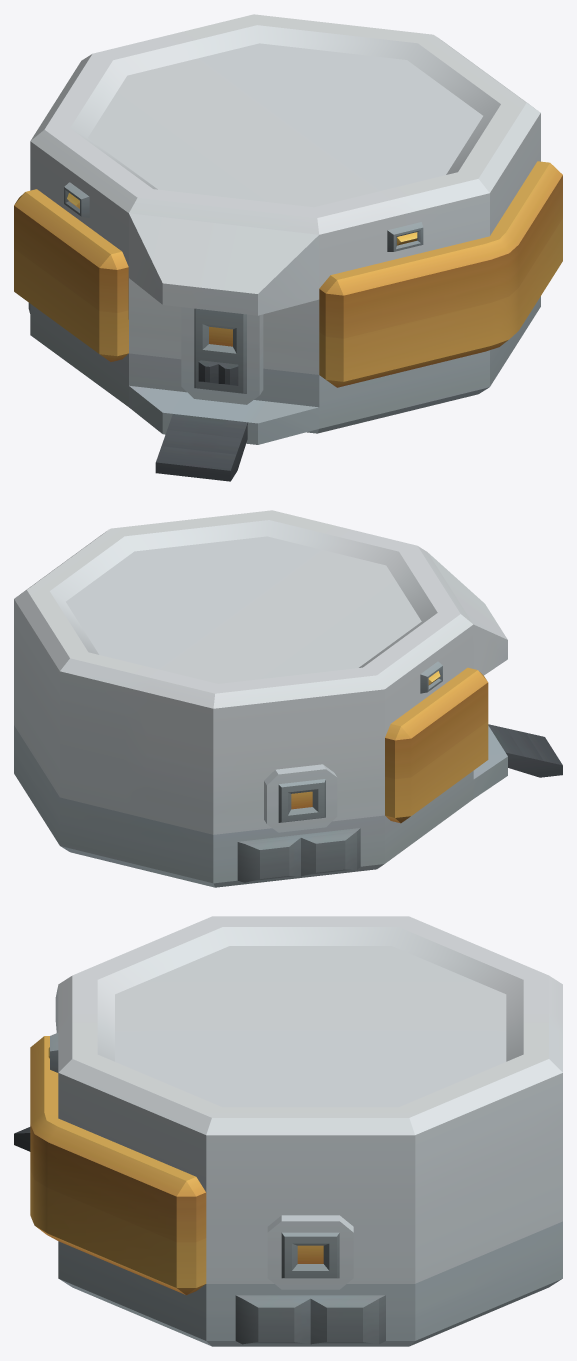
File: kay-modulo-base.gltf
3 renders of one model, top to bottom at view 1: azimuth 30°, elevation 25°; view 2: azimuth 150°, elevation 25°; view 3: azimuth 270°, elevation 25°, orthographic. The views are drawn at different scales.
Parts seen in each view (by area): view 1: basemodule_A; view 2: basemodule_A; view 3: basemodule_A.
Boxes of the visible parts, left/top/right/bottom form: basemodule_A: left=14, top=14, right=562, bottom=481; basemodule_A: left=14, top=510, right=562, bottom=887; basemodule_A: left=14, top=916, right=562, bottom=1346.
Bounding box in the file's own units: 5.85 × 2.6 × 5.66.
Materials: 1 (1 with a texture image).
